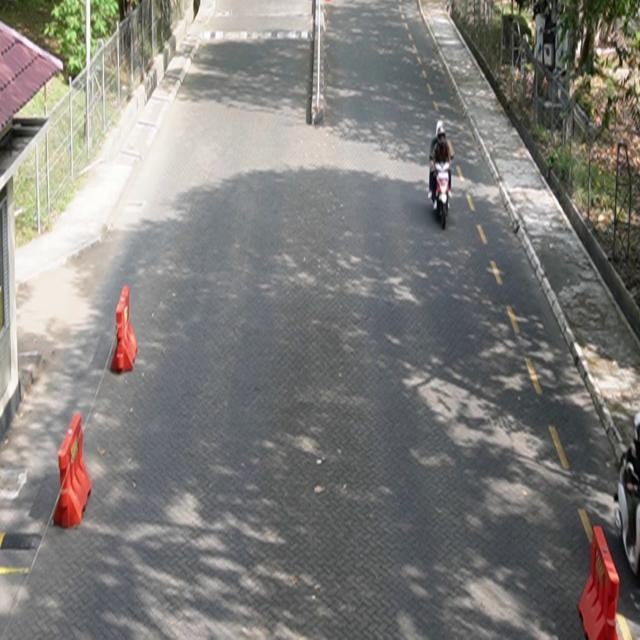car: (614, 412, 640, 578)
